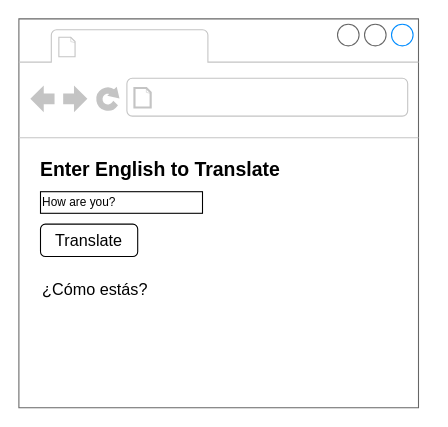
The diagram is 448 pixels wide and 427 high, and some of its shapes have lost their labels. The shapes that lost their labels are listed below. From the top down, each one's centre as x and y in pixels, then its label:
At (142,45): "Page 1".
At (293,97): "https://www.draw.io".
